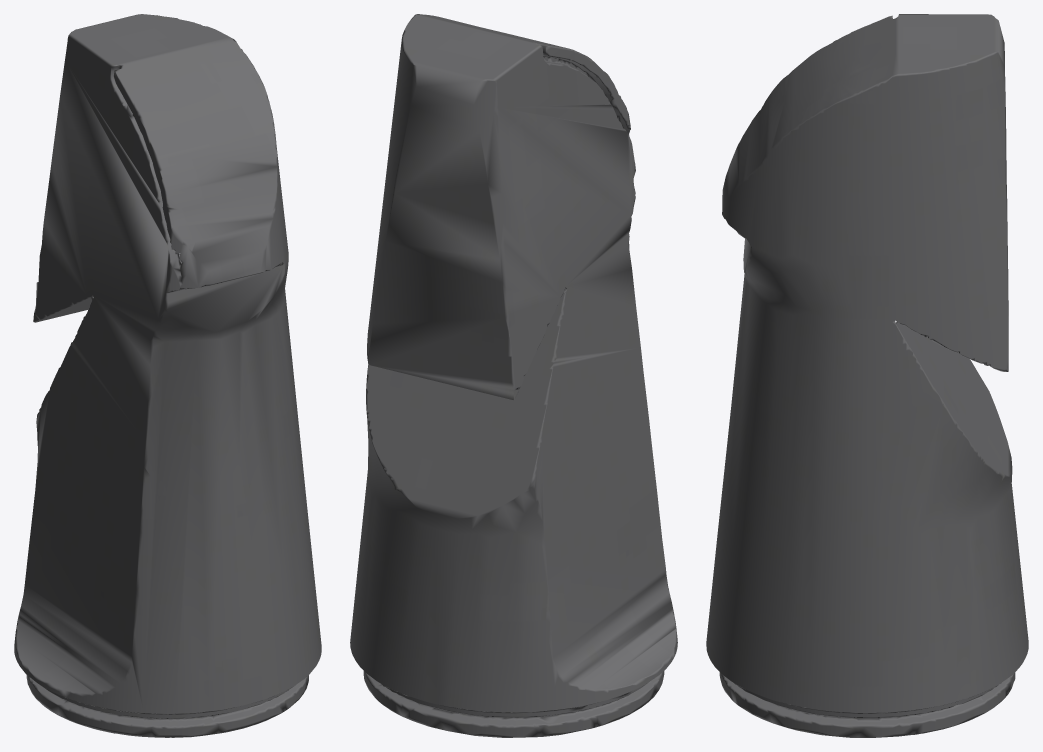
Rendered from knight-black.glb.
The picture shows the model from 3 angles, left to right: view 1: azimuth 30°, elevation 25°; view 2: azimuth 150°, elevation 25°; view 3: azimuth 270°, elevation 25°; orthographic projection. The views are drawn at different scales.
Visible parts, largest first — view 1: 04_jezdec_cerna; view 2: 04_jezdec_cerna; view 3: 04_jezdec_cerna.
Part boxes in pixels (<box>): 04_jezdec_cerna: <box>14,14,321,737</box>; 04_jezdec_cerna: <box>350,14,677,737</box>; 04_jezdec_cerna: <box>706,14,1028,737</box>.
Size of the model in its own units: 0.6414 by 1.41 by 0.6412.
Materials: 1 (1 with a texture image).
